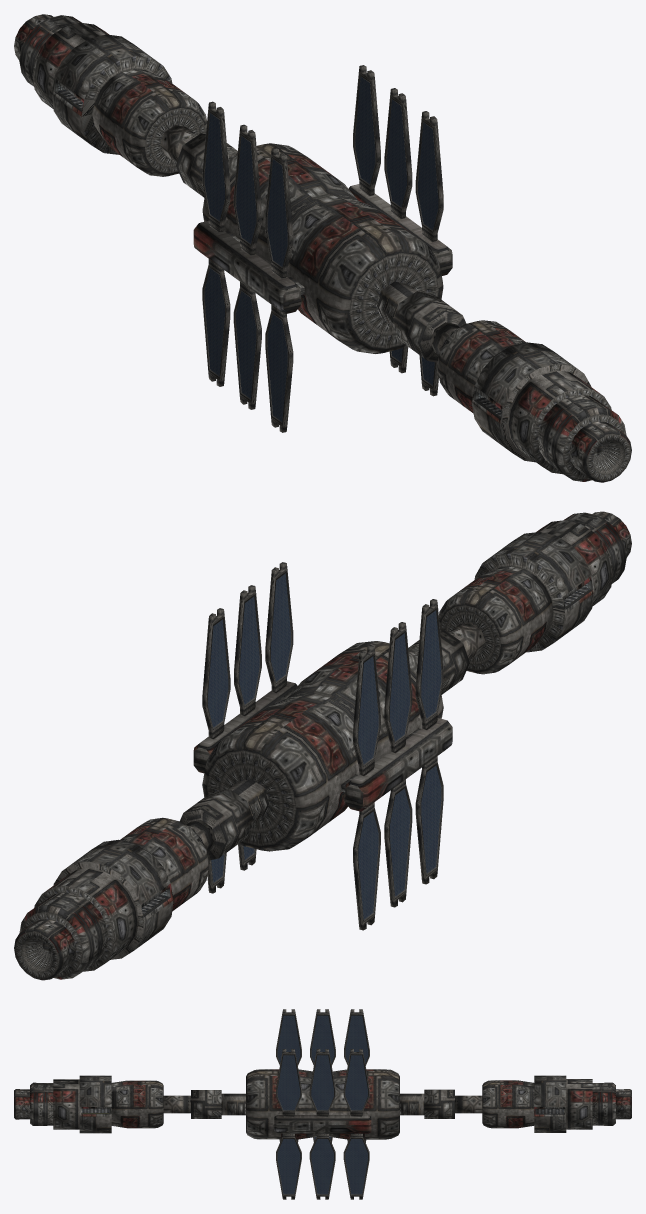
The picture shows the model from 3 angles, top to bottom: view 1: azimuth 30°, elevation 25°; view 2: azimuth 150°, elevation 25°; view 3: azimuth 270°, elevation 25°; orthographic projection. The views are drawn at different scales.
Visible parts, largest first — view 1: s6; view 2: s6; view 3: s6.
Part boxes in pixels (x1,y1,x2,y2): s6: (14,14,631,482); s6: (14,511,631,980); s6: (14,1009,631,1199).
Size of the model in its own units: 443 by 678 by 2530.
